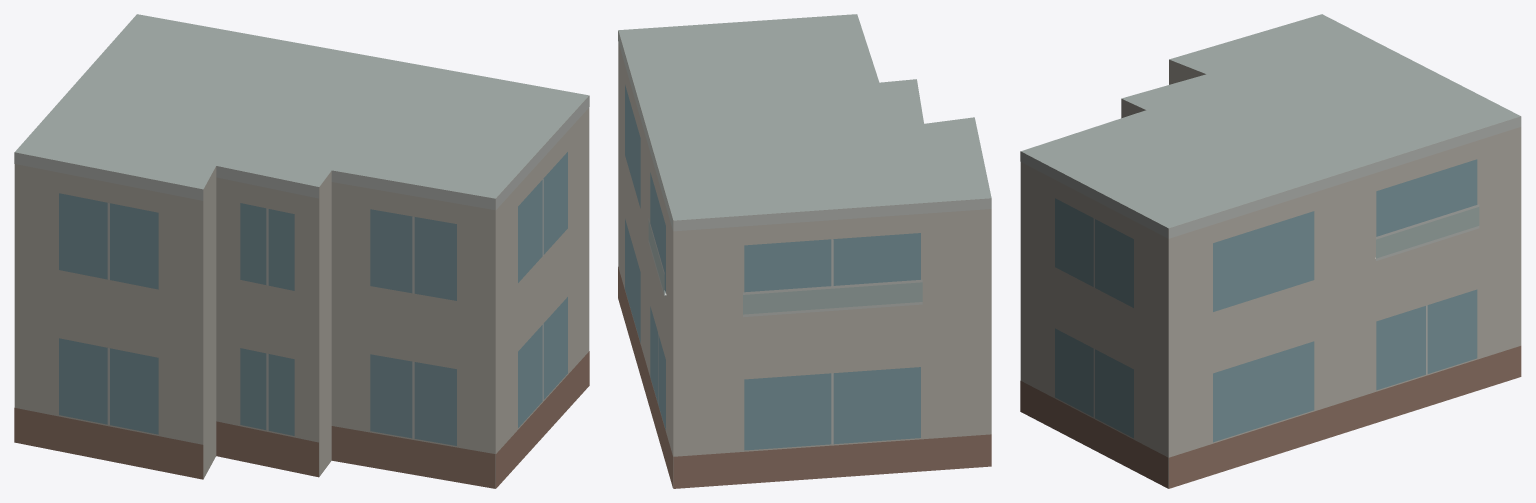
The model's file is survey-upis-32643460.glb.
3 renders of one model, left to right at view 1: azimuth 30°, elevation 25°; view 2: azimuth 150°, elevation 25°; view 3: azimuth 270°, elevation 25°, orthographic. The views are drawn at different scales.
Parts seen in each view (by area): view 1: survey-upis-32643460.tmp; view 2: survey-upis-32643460.tmp; view 3: survey-upis-32643460.tmp.
Part boxes in pixels (x1,y1,x2,y2): survey-upis-32643460.tmp: [14, 14, 589, 488]; survey-upis-32643460.tmp: [618, 14, 991, 488]; survey-upis-32643460.tmp: [1020, 14, 1521, 488].
Size of the model in its own units: 10.78 by 6.1 by 10.64.
